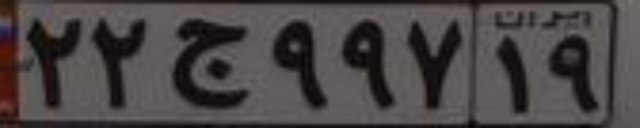1: (496, 33, 532, 113)
2: (92, 17, 153, 108), (25, 14, 81, 110)
7: (408, 17, 459, 109)
9: (266, 17, 327, 109), (338, 18, 396, 107), (546, 35, 597, 112)
jim: (170, 17, 254, 107)
